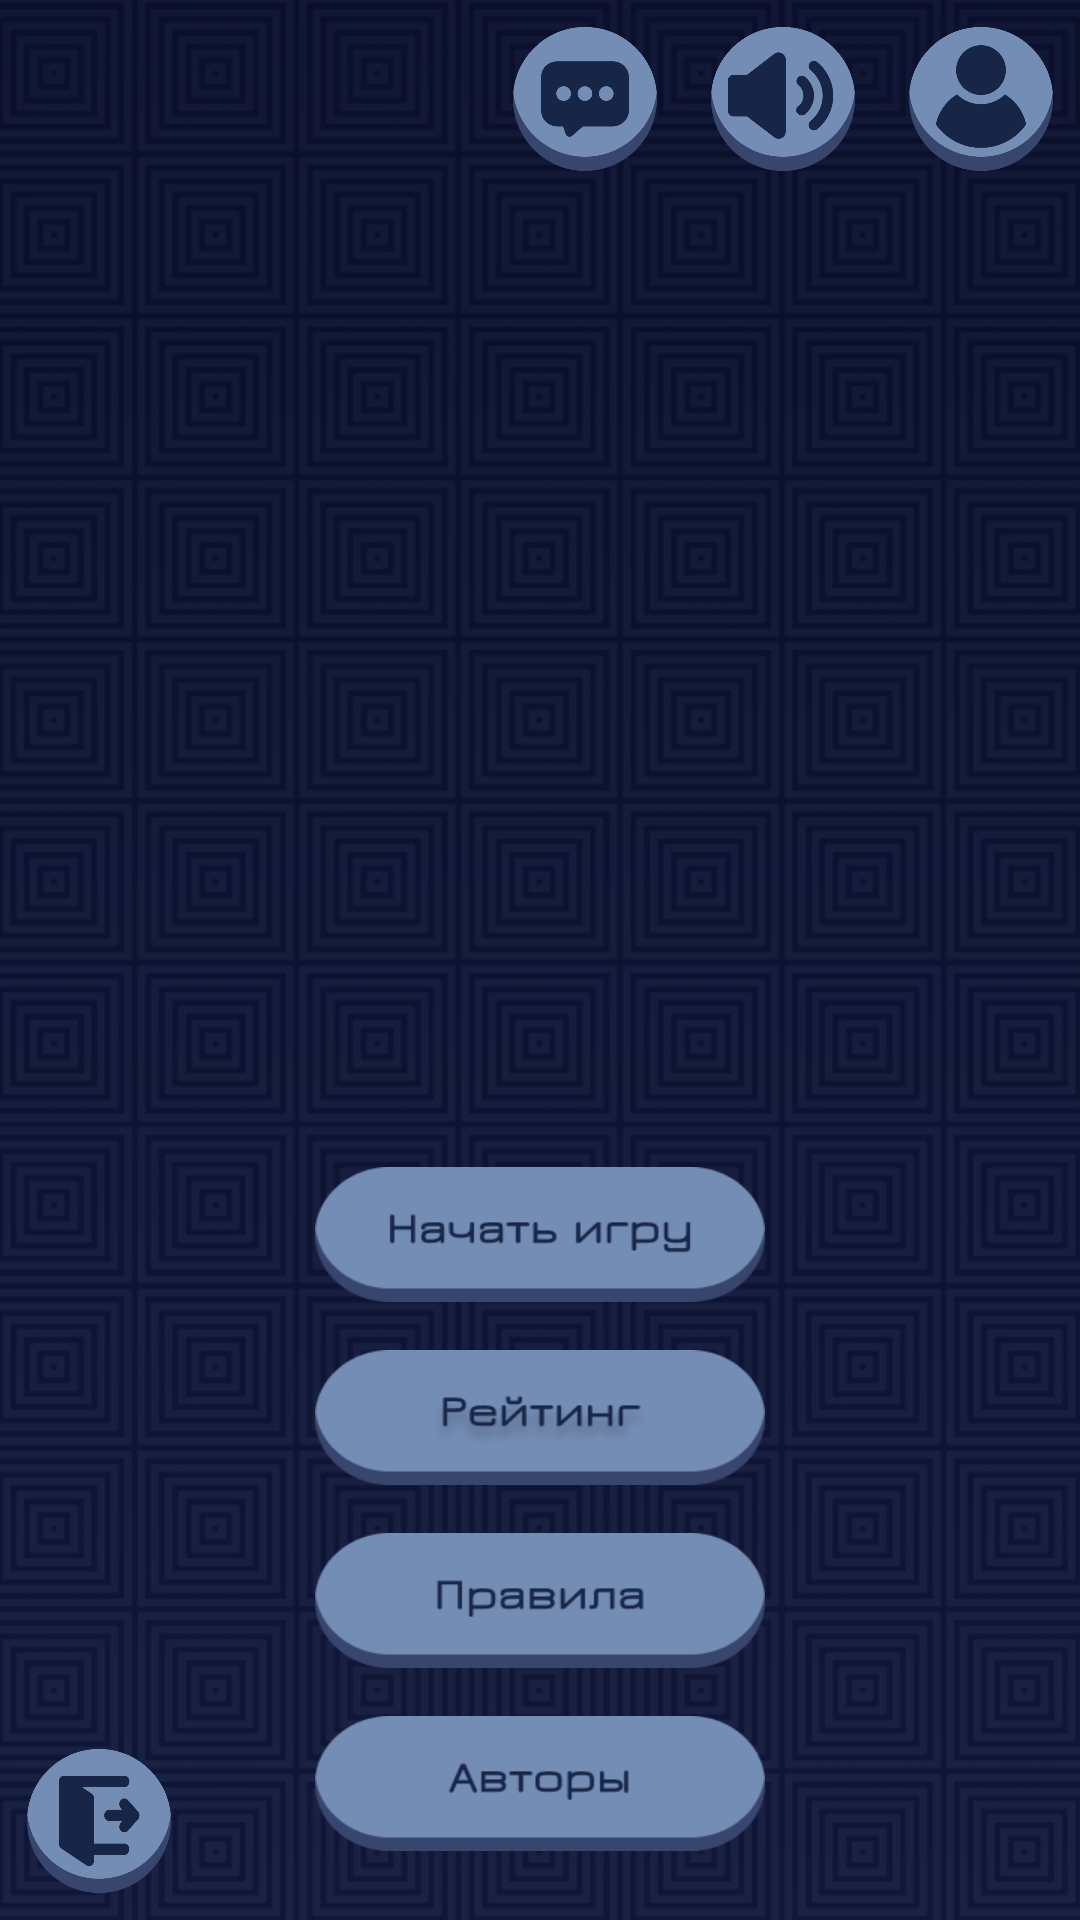

Screen size 1080*1920. Icon name, then its center in pixels as (x=x, y=y):
chat: (x=585, y=99)
exit: (x=99, y=1821)
profile: (x=981, y=99)
sound: (x=783, y=99)
